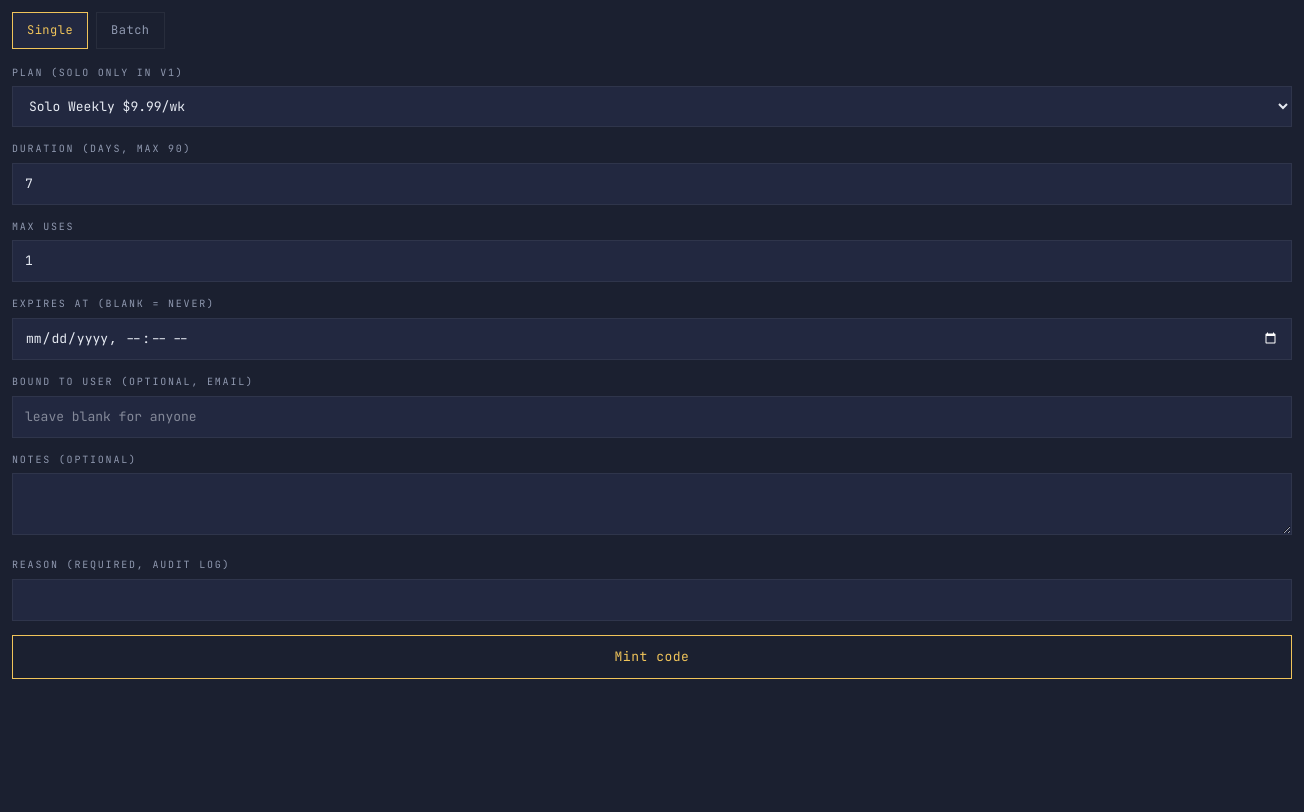
MintCompCodeForm › caps duration at 90 days
Replace the text in the number field labelled "Duration (days, max 90)" with "120" at (652, 184), box [12, 163, 1292, 205]
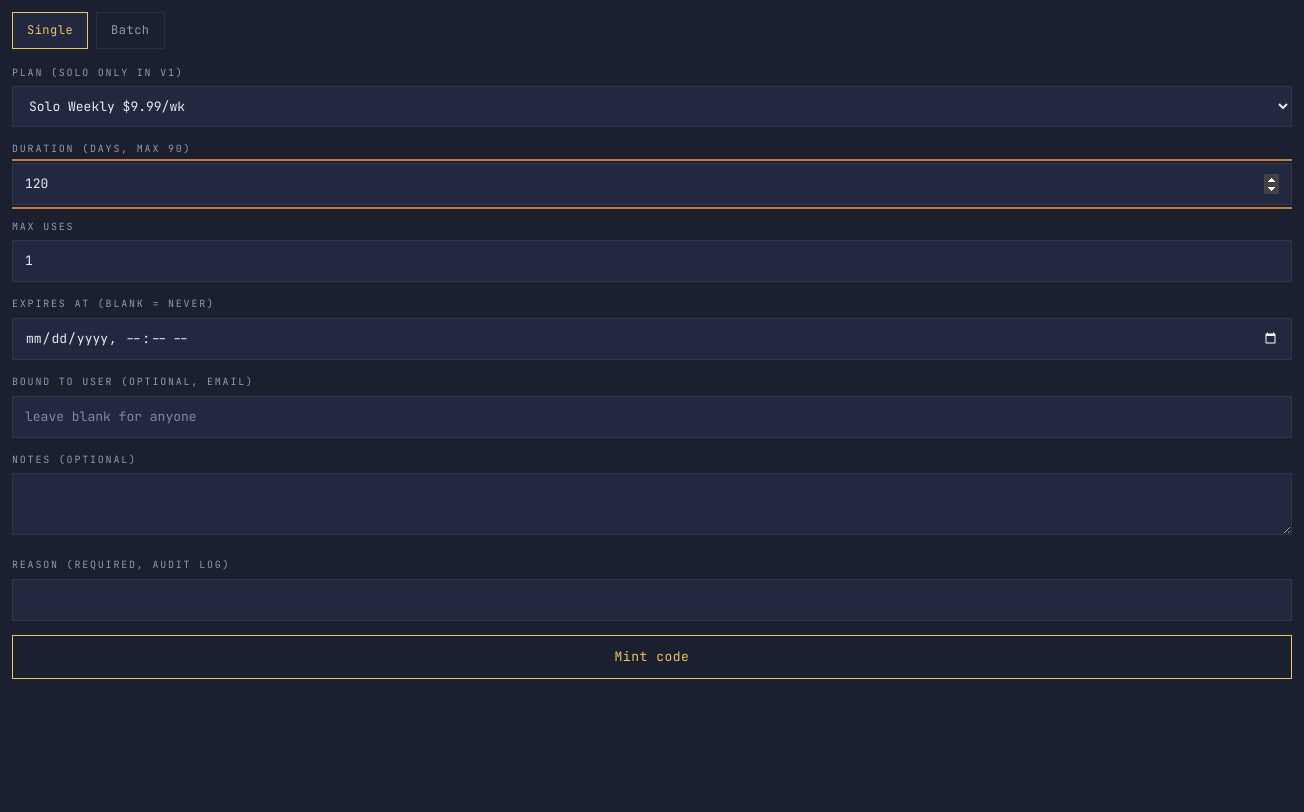
Type "test" into the field labelled "Reason (required, audit log)" at (652, 600), box [12, 579, 1292, 621]
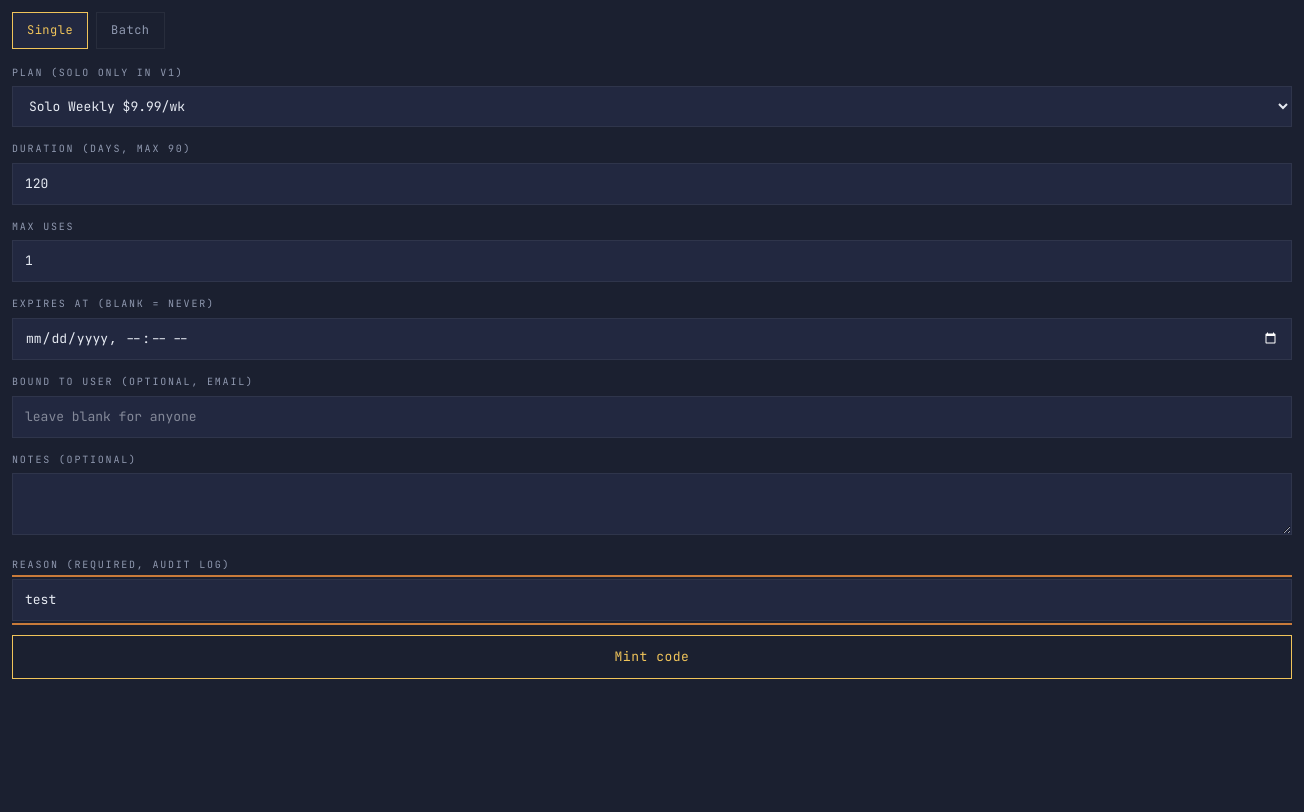
Click the button "Mint code" at (652, 657), box [12, 635, 1292, 679]
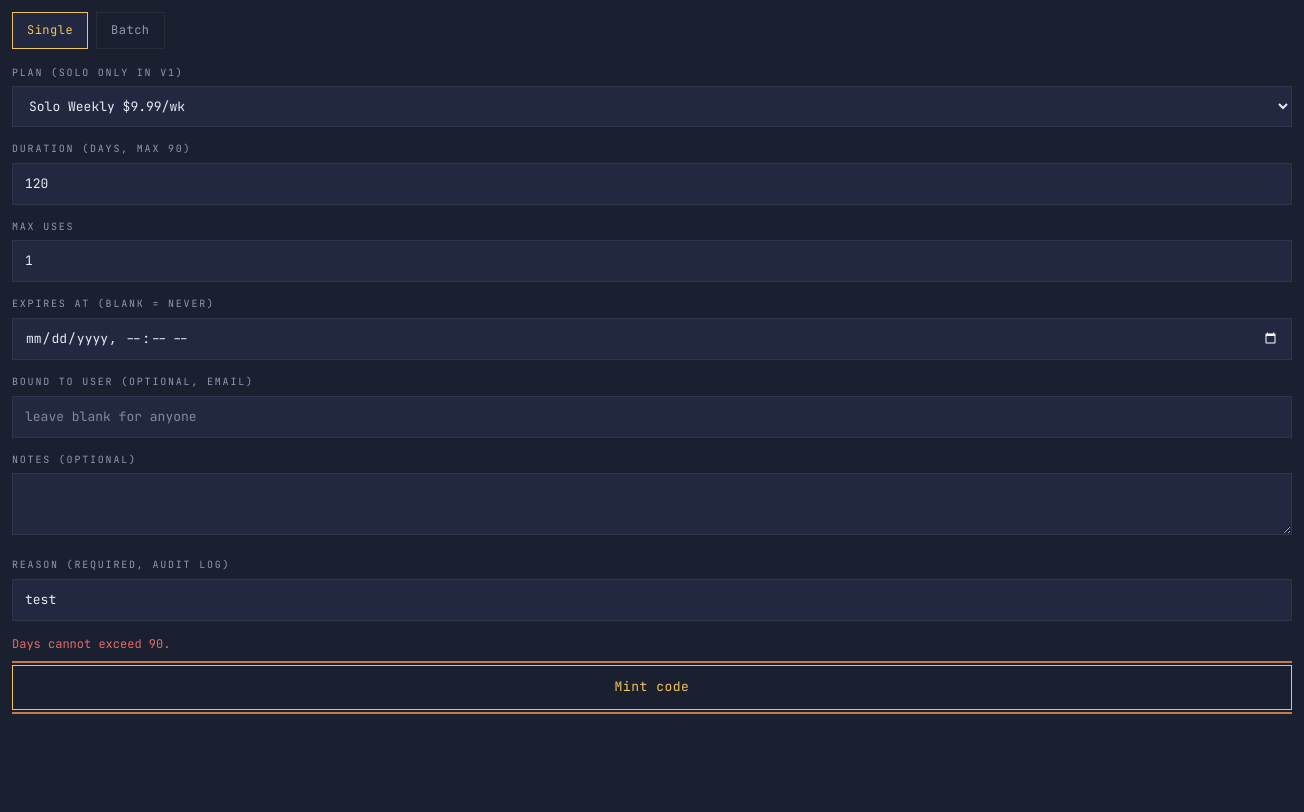
Expected: the message shows "cannot exceed 90", [12, 636, 170, 652]
